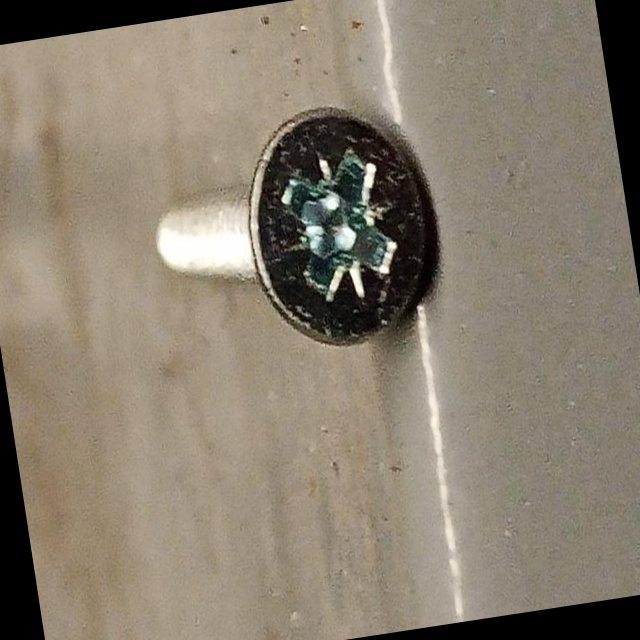pozidriv: (231, 92, 450, 359)
